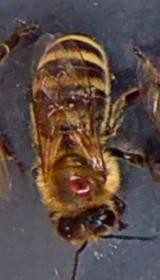varroa_mite: (60, 164, 98, 202)
